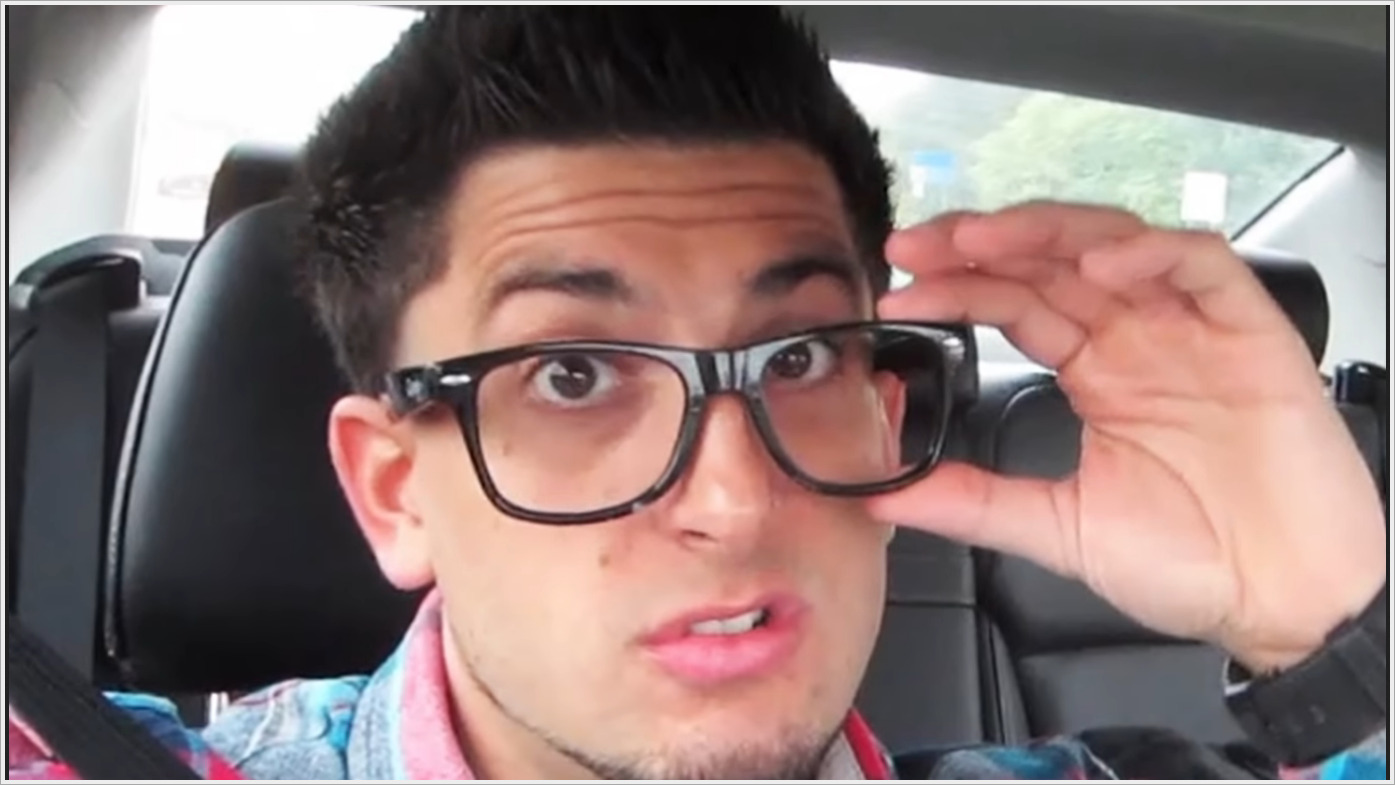hand: (858, 196, 1384, 645)
